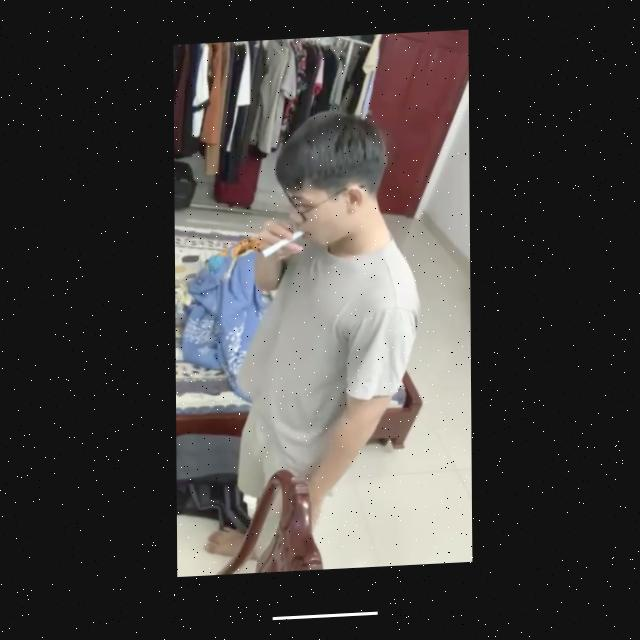cigarette: (259, 234, 304, 262)
